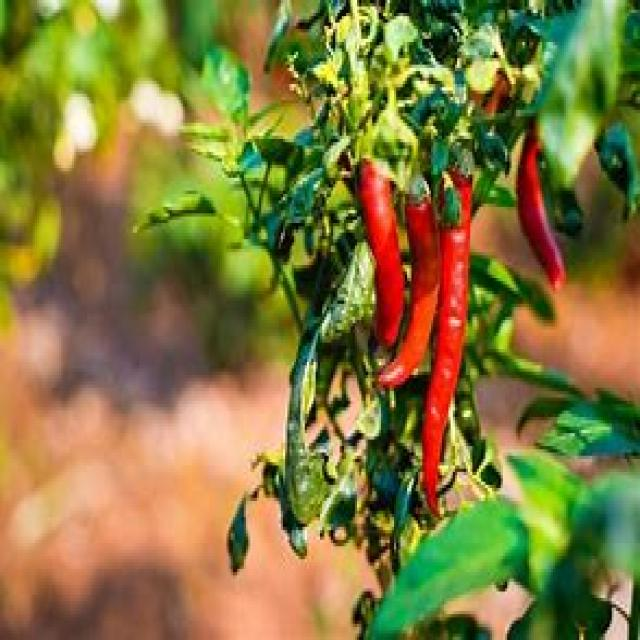Mosaic_virus: (208, 0, 610, 617)
